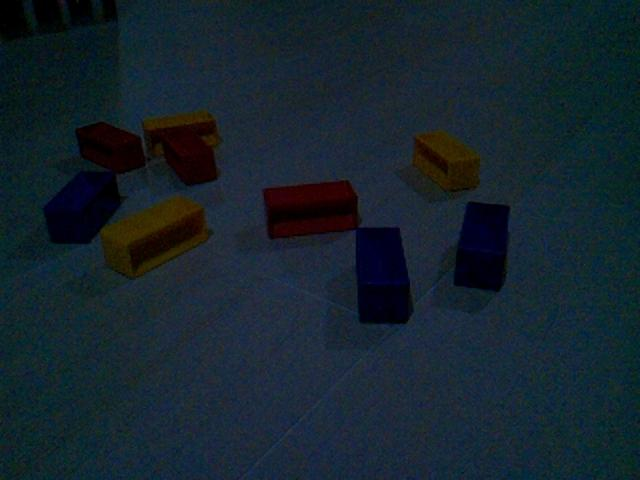blue: (43, 172, 122, 246), (356, 228, 412, 326), (454, 202, 512, 294)
red: (263, 180, 360, 241), (76, 121, 147, 175), (161, 126, 219, 188)
yellow: (100, 194, 209, 281), (412, 129, 482, 194), (142, 109, 221, 158)
